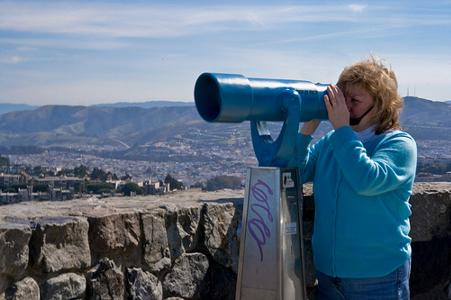person: (295, 63, 412, 300)
